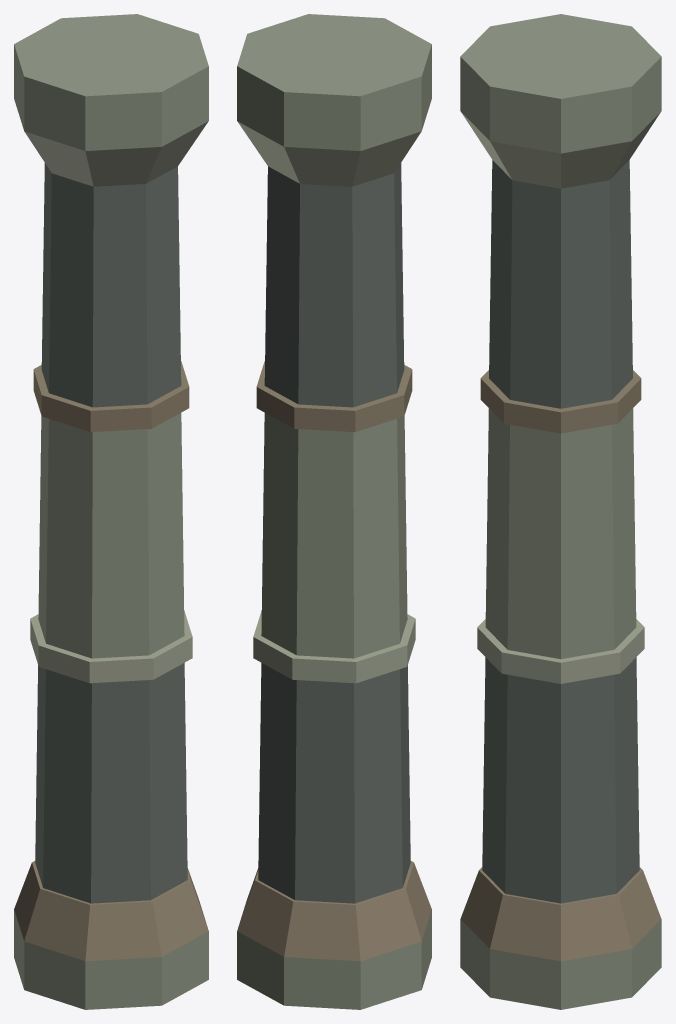
Rendered from TW_RUIN_PILLAR_ROUND_A_LOD0.glb.
3 views of the same model, side by side, from view 1: azimuth 30°, elevation 25°; view 2: azimuth 150°, elevation 25°; view 3: azimuth 270°, elevation 25° (orthographic).
Visible parts, largest first — view 1: TW_RUIN_PILLAR_ROUND_A; view 2: TW_RUIN_PILLAR_ROUND_A; view 3: TW_RUIN_PILLAR_ROUND_A.
Part boxes in pixels (x1,y1,x2,y2): TW_RUIN_PILLAR_ROUND_A: [14, 14, 208, 1009]; TW_RUIN_PILLAR_ROUND_A: [237, 14, 431, 1009]; TW_RUIN_PILLAR_ROUND_A: [460, 14, 661, 1009].
Bounding box in the file's own units: 0.6 × 3 × 0.6.
